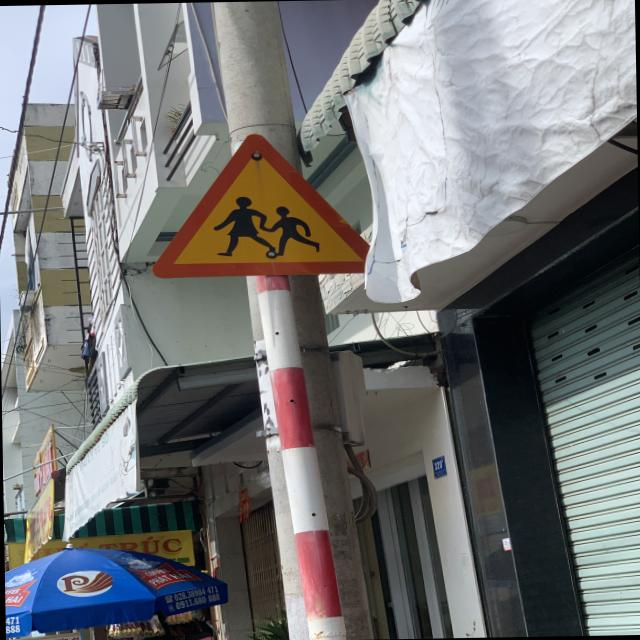Vong_Xuyen: (150, 130, 370, 277)
